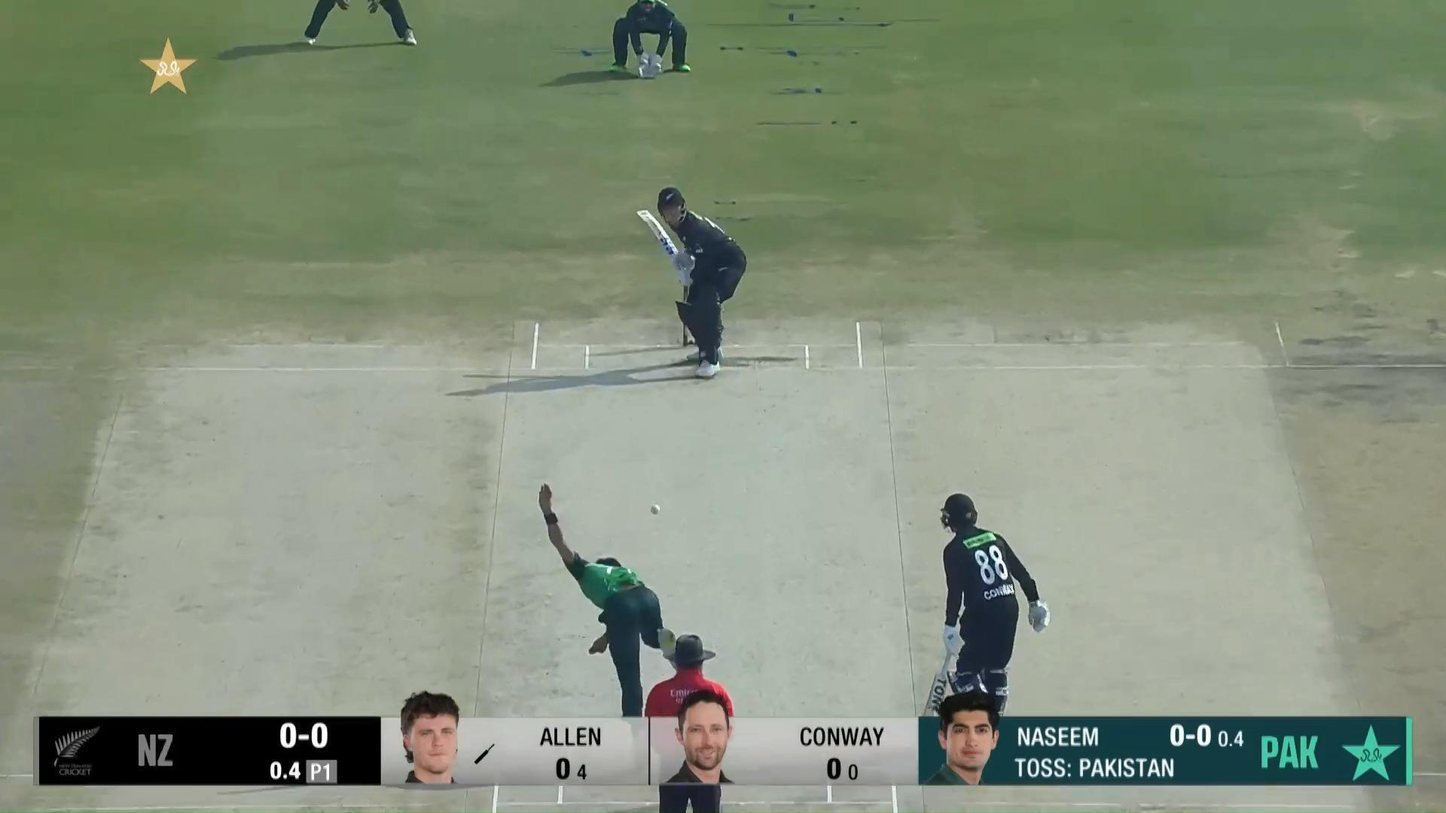BM 1: (635, 186, 748, 380)
BO: (537, 480, 680, 718)
